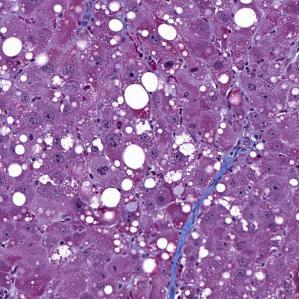fibrosis: (173, 174, 217, 253)
